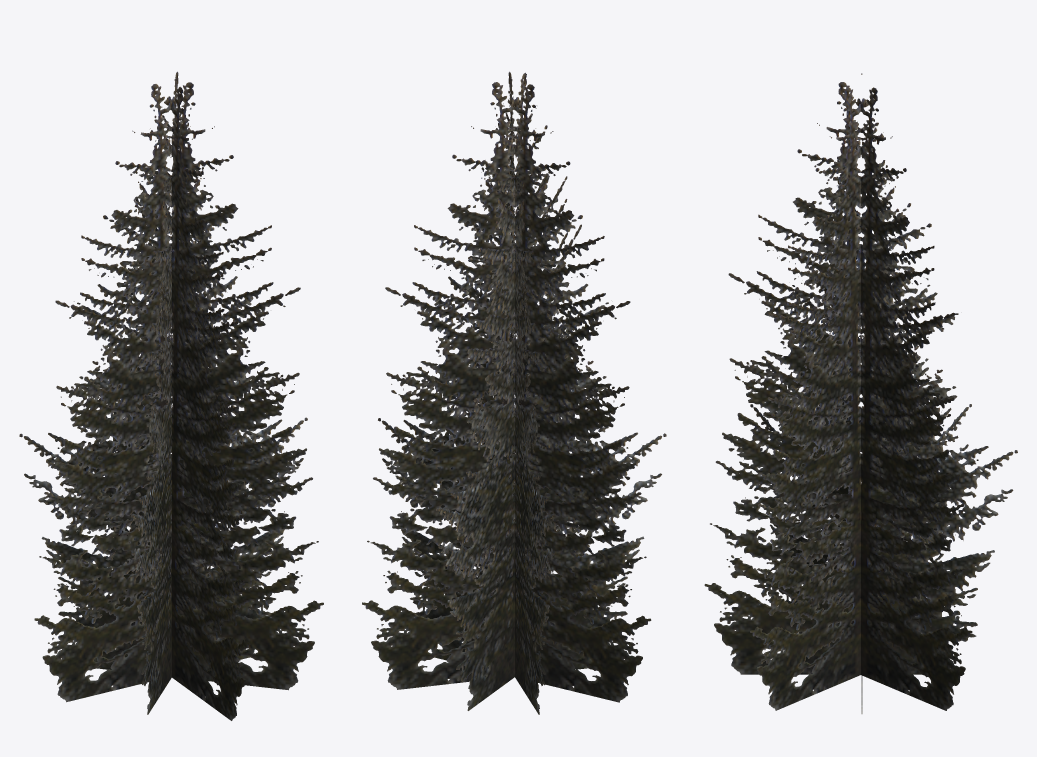
Rendered from Tree5.fbx.
The picture shows the model from 3 angles, left to right: view 1: azimuth 30°, elevation 25°; view 2: azimuth 150°, elevation 25°; view 3: azimuth 270°, elevation 25°; orthographic projection.
Parts seen in each view (by area): view 1: tree6; view 2: tree6; view 3: tree6.
Part boxes in pixels (left/top/right/bottom): tree6: left=19, top=71, right=323, bottom=720; tree6: left=362, top=71, right=666, bottom=714; tree6: left=704, top=73, right=1017, bottom=713.
Size of the model in its own units: 385 by 779 by 385.
